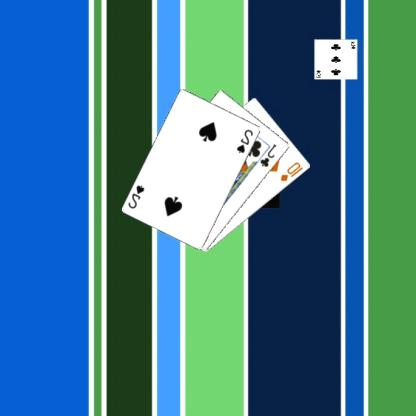10D: (280, 160, 306, 182)
2S: (127, 182, 148, 210), (236, 127, 256, 154)
JC: (260, 141, 280, 169)
